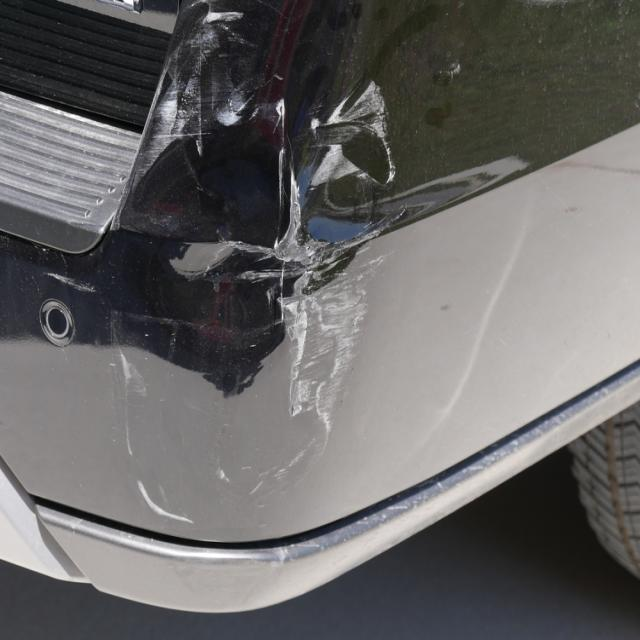dent: (119, 107, 389, 248)
scratch: (112, 203, 390, 527), (147, 0, 288, 164), (309, 76, 385, 141)
